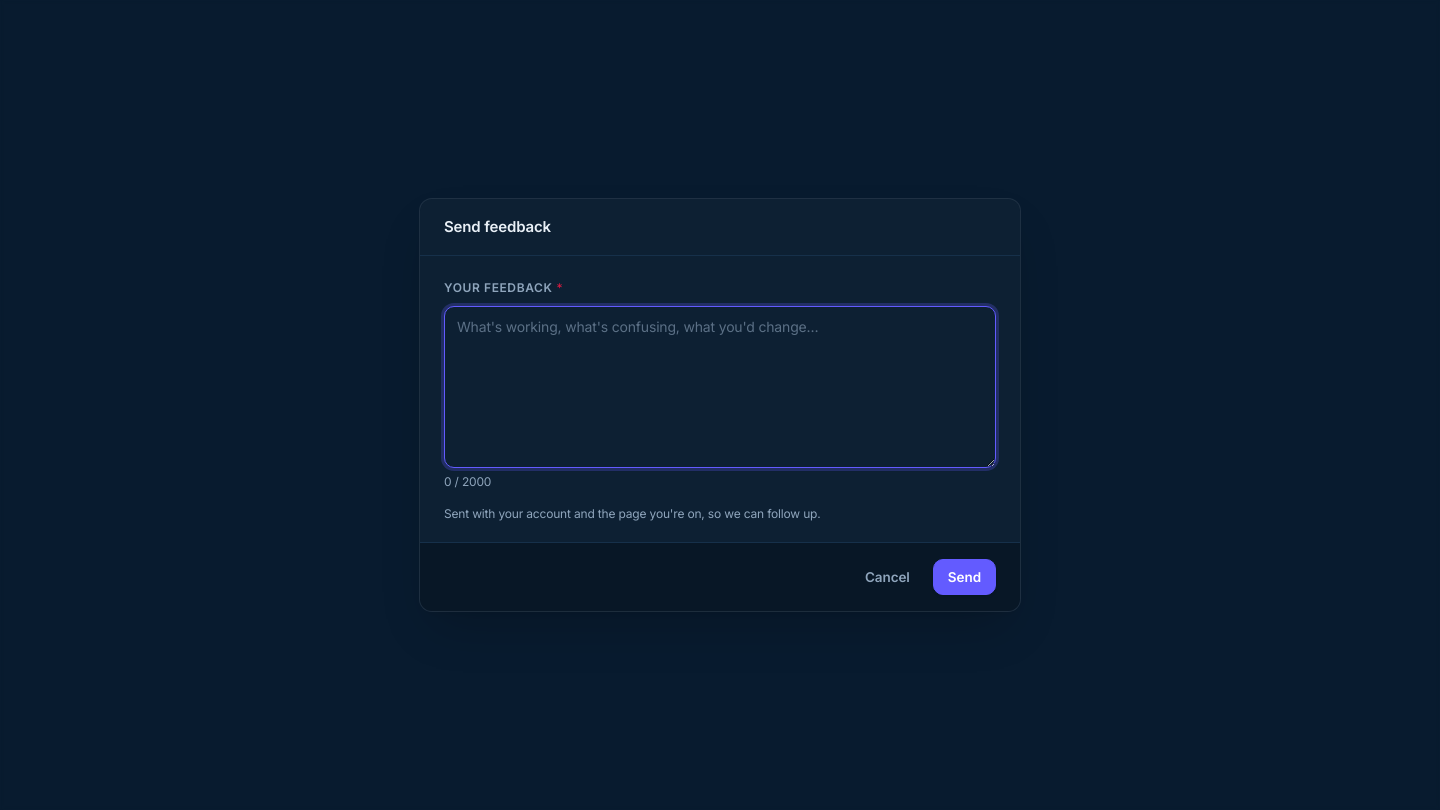
Test case: FeedbackDialog › sends the trimmed message with the current page, then thanks the user
Type "  the chart is great  " into the text box labelled "Your feedback*" at x=720, y=387, box [444,306,996,468]
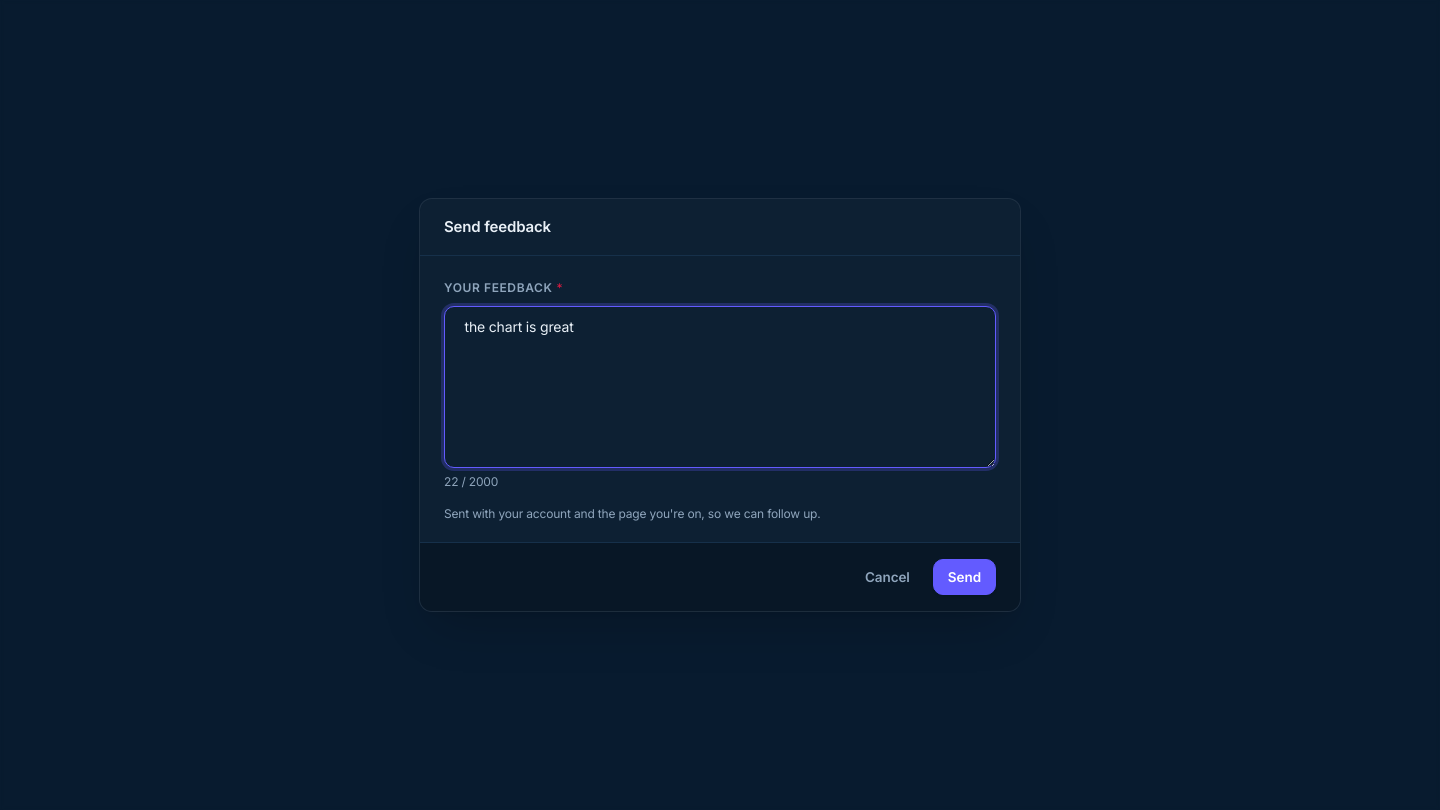
Click the button "Send" at x=964, y=577, box [933,559,996,595]
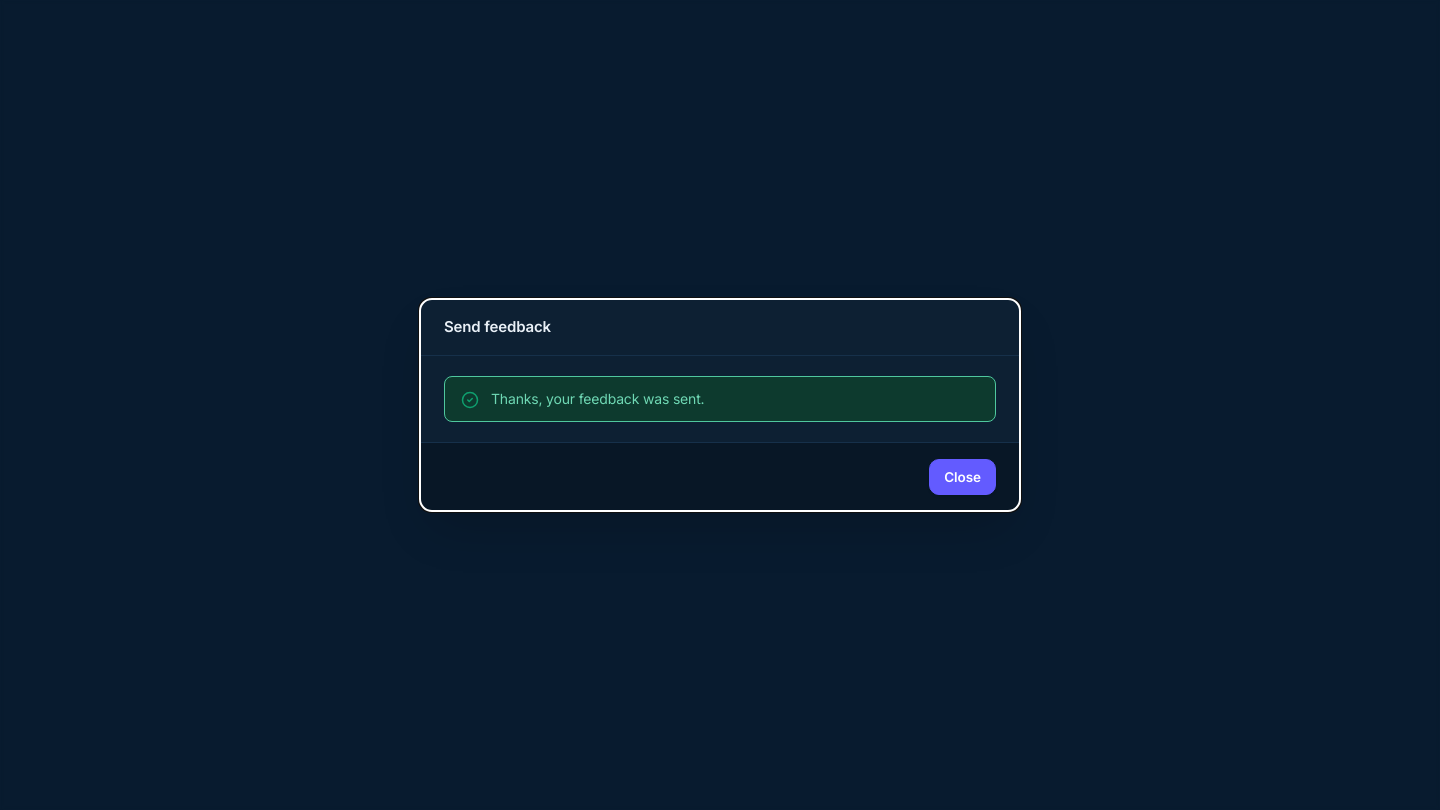
expect the text "Thanks, your feedback was sent." is shown: met, box [491,390,704,407]
